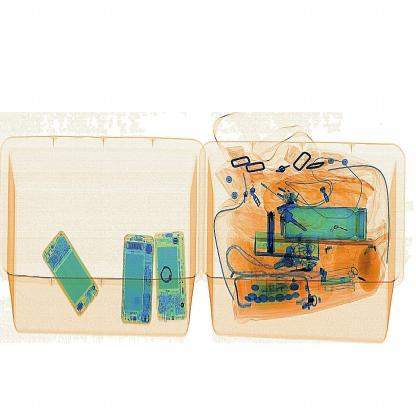scissors: (255, 204, 284, 266)
